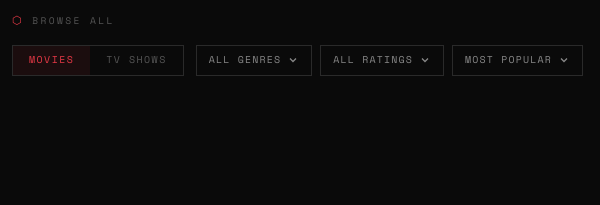
Test: FilterBar › opens genre dropdown on pill click
Click the button "All Genres": (254, 60) [196,45,312,76]
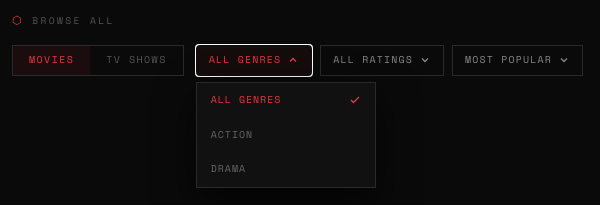
Expected: the button "Action" is shown, [197,118,375,152]
Expected: the button "Drama" is shown, [197,152,375,187]
